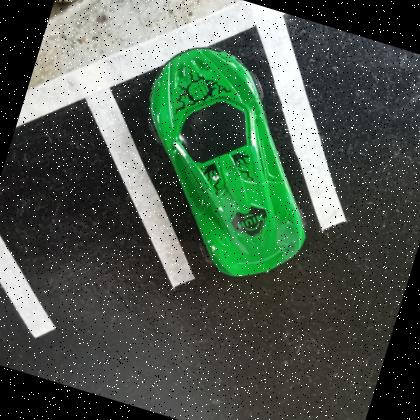Car: (148, 45, 306, 276)
